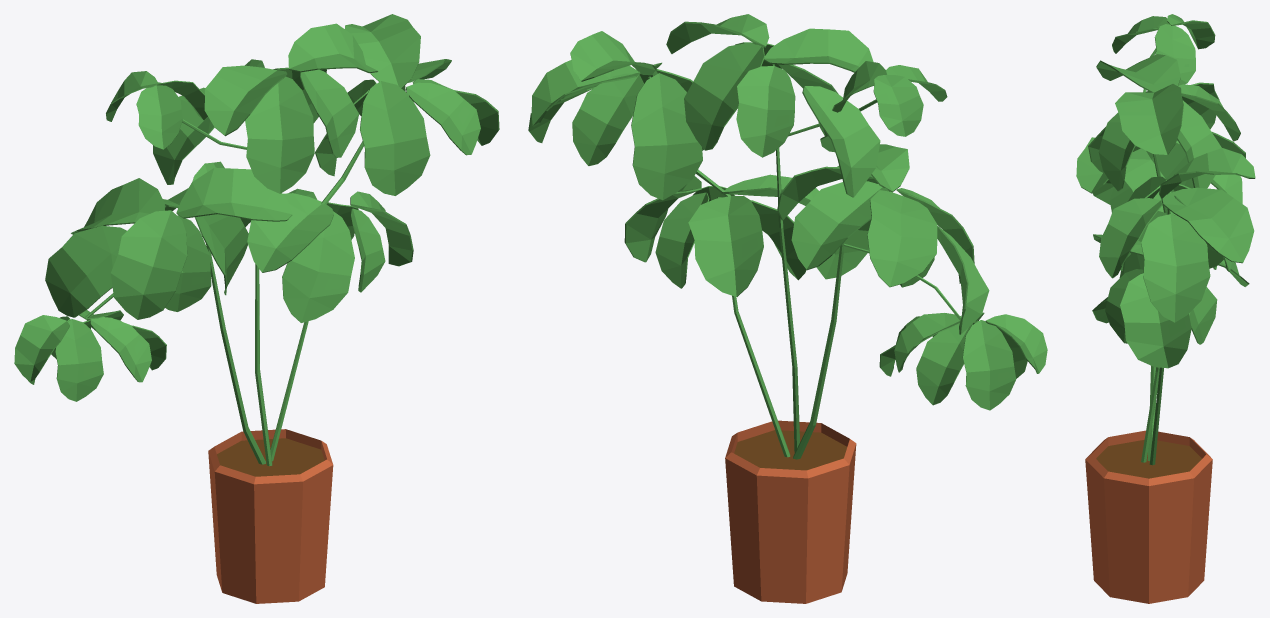
3 views of the same model, side by side, from view 1: azimuth 30°, elevation 25°; view 2: azimuth 150°, elevation 25°; view 3: azimuth 270°, elevation 25° (orthographic). The views are drawn at different scales.
Parts seen in each view (by area): view 1: lowpoly.taobao.com.015; view 2: lowpoly.taobao.com.015; view 3: lowpoly.taobao.com.015.
Part boxes in pixels (x1,y1,x2,y2): lowpoly.taobao.com.015: [14, 14, 499, 603]; lowpoly.taobao.com.015: [528, 14, 1047, 603]; lowpoly.taobao.com.015: [1076, 14, 1255, 603].
Size of the model in its own units: 799 by 848 by 265.
